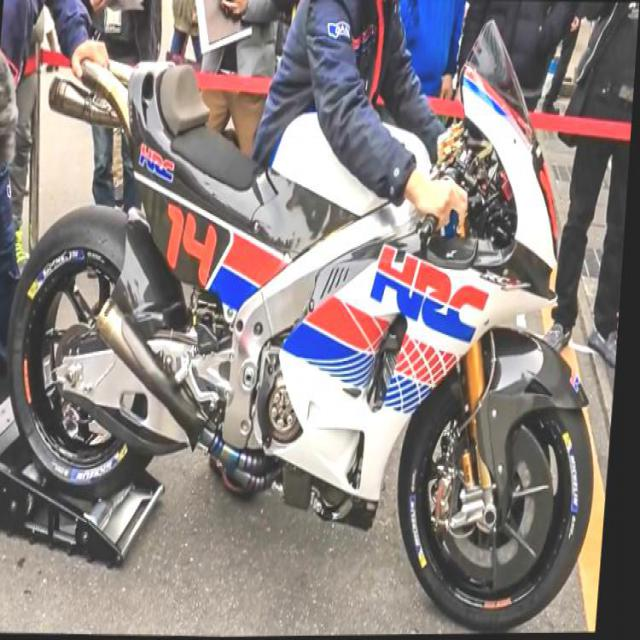HRC RCV 213: (0, 3, 633, 638)
